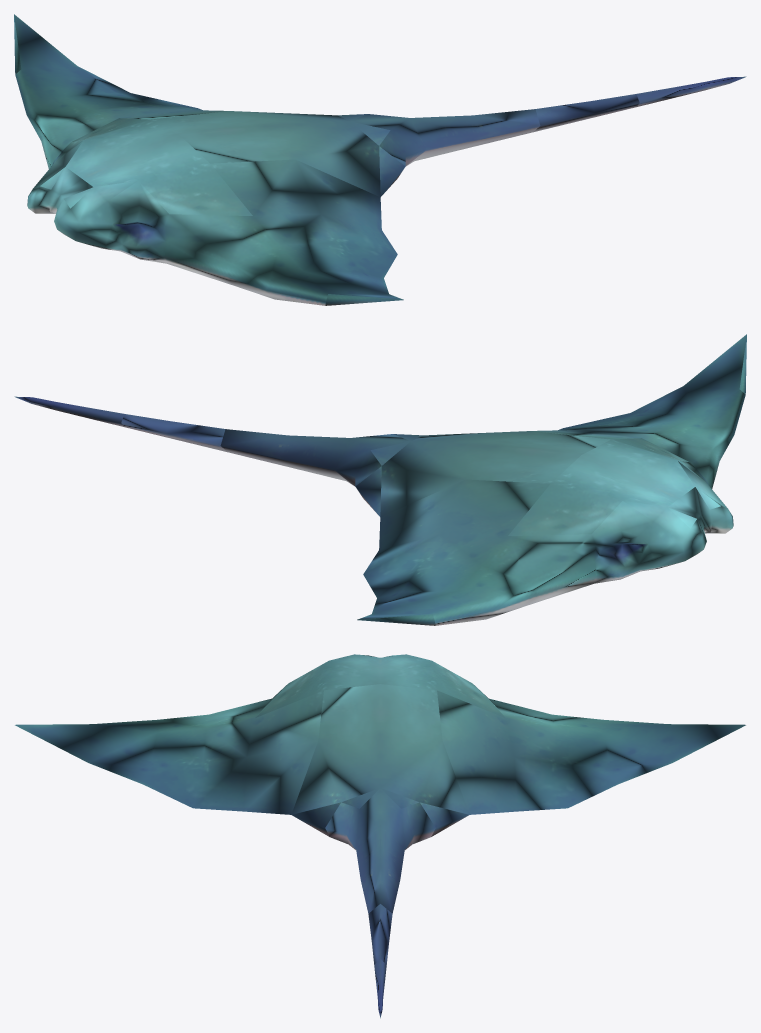
Rendered from f15_niubihong.FBX.
3 views of the same model, one above another, from view 1: azimuth 30°, elevation 25°; view 2: azimuth 150°, elevation 25°; view 3: azimuth 270°, elevation 25° (orthographic). The views are drawn at different scales.
Parts seen in each view (by area): view 1: f15_niubihong; view 2: f15_niubihong; view 3: f15_niubihong.
Boxes of the visible parts, x1,y1,x2,y2 form: f15_niubihong: (14, 14, 746, 305); f15_niubihong: (14, 334, 746, 625); f15_niubihong: (15, 654, 745, 1018).
Bounding box in the file's own units: 61.07 × 6.91 × 58.68.
